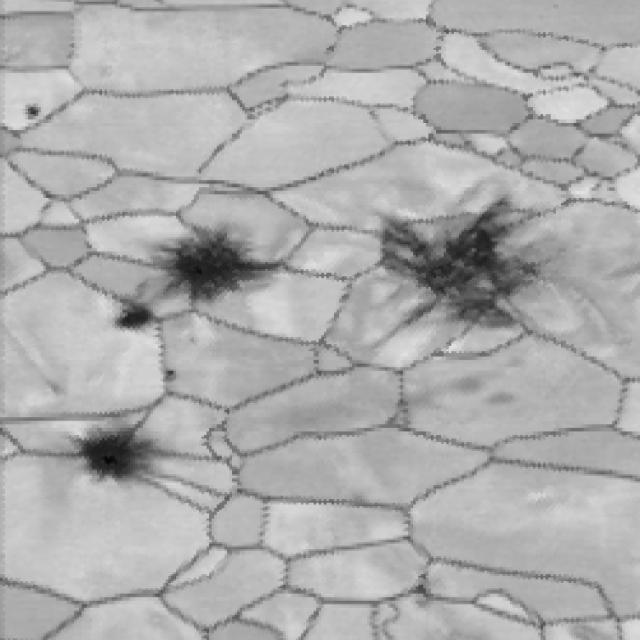good_void: (357, 185, 560, 342), (161, 214, 285, 304), (72, 420, 169, 484), (409, 376, 482, 408), (117, 297, 167, 336), (157, 361, 183, 393), (489, 389, 518, 409), (20, 100, 46, 121)
